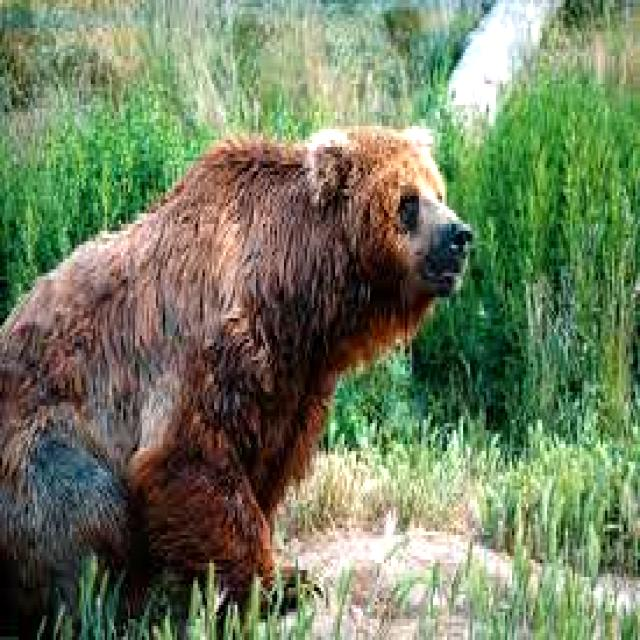bear: (40, 117, 482, 528)
